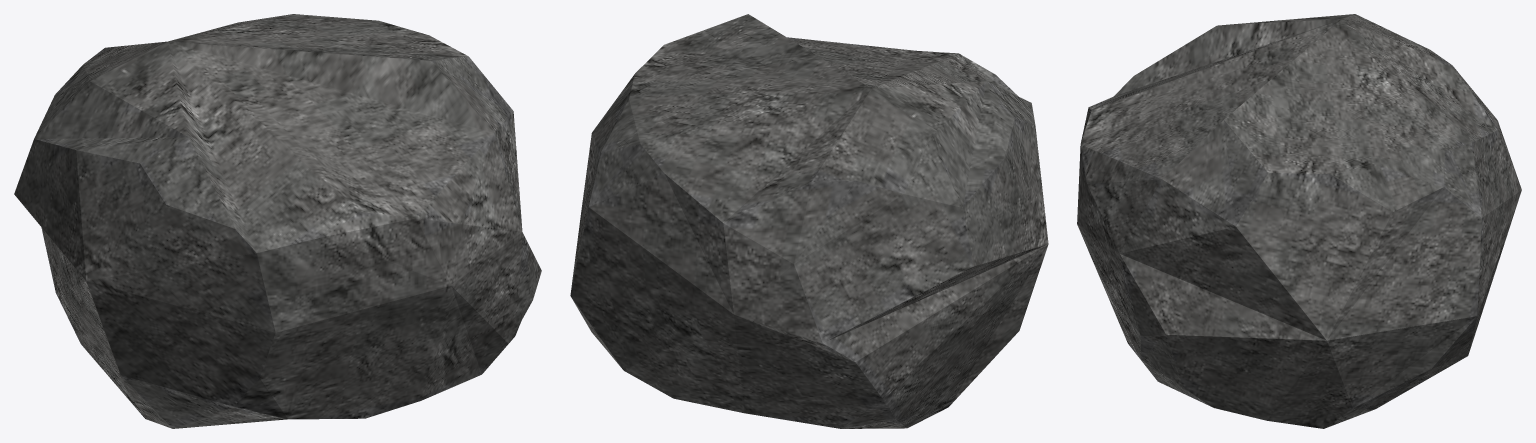
File: StrangeRock1_LOD1.FBX
3 views of the same model, side by side, from view 1: azimuth 30°, elevation 25°; view 2: azimuth 150°, elevation 25°; view 3: azimuth 270°, elevation 25° (orthographic). The views are drawn at different scales.
Parts seen in each view (by area): view 1: Rock_High001; view 2: Rock_High001; view 3: Rock_High001.
Boxes of the visible parts, box(x1,y1,x2,y2) form: Rock_High001: box(14, 14, 541, 428); Rock_High001: box(570, 14, 1048, 428); Rock_High001: box(1077, 14, 1521, 428).
Bounding box in the file's own units: 76.4 × 61.09 × 74.66.
Materials: 1 (1 with a texture image).
